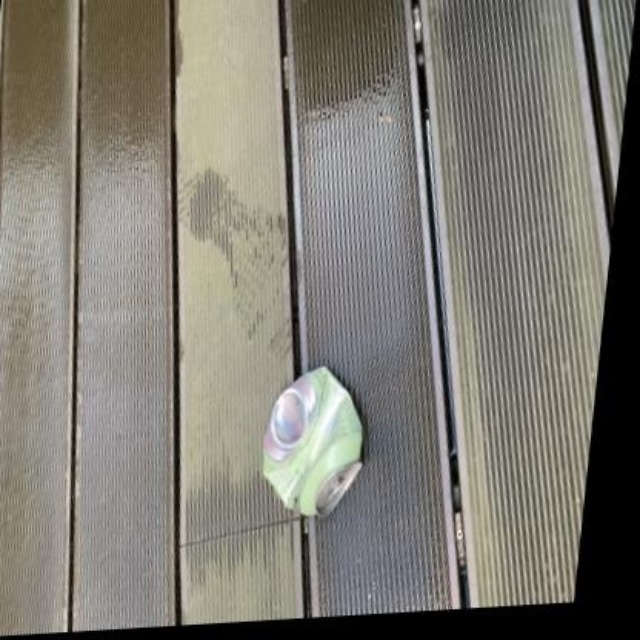trash: (263, 366, 362, 514)
